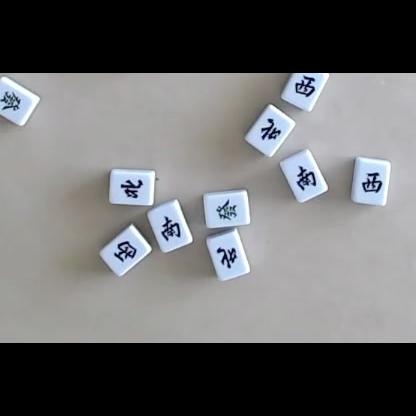2z: (295, 164, 317, 191), (161, 215, 181, 242)
3z: (113, 240, 137, 263), (294, 75, 317, 97), (362, 171, 383, 193)
4z: (120, 179, 145, 199), (260, 118, 281, 141), (216, 246, 237, 269)
6z: (216, 199, 238, 221), (0, 90, 21, 111)
